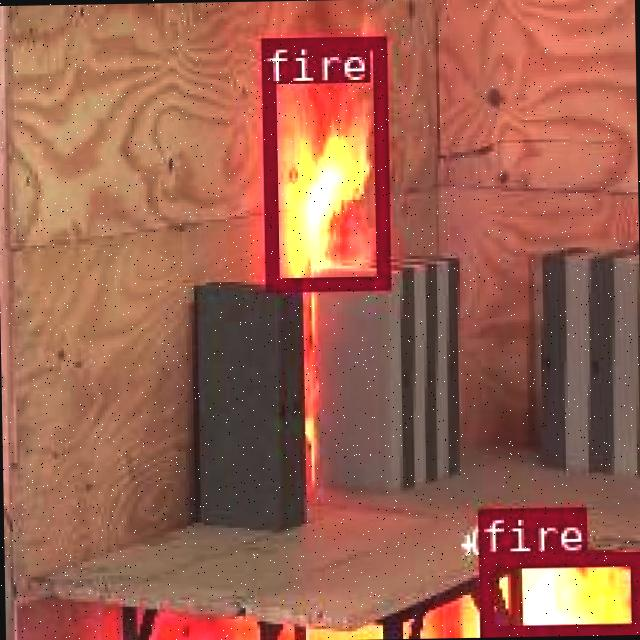fire: (258, 34, 386, 288), (477, 550, 640, 636)
